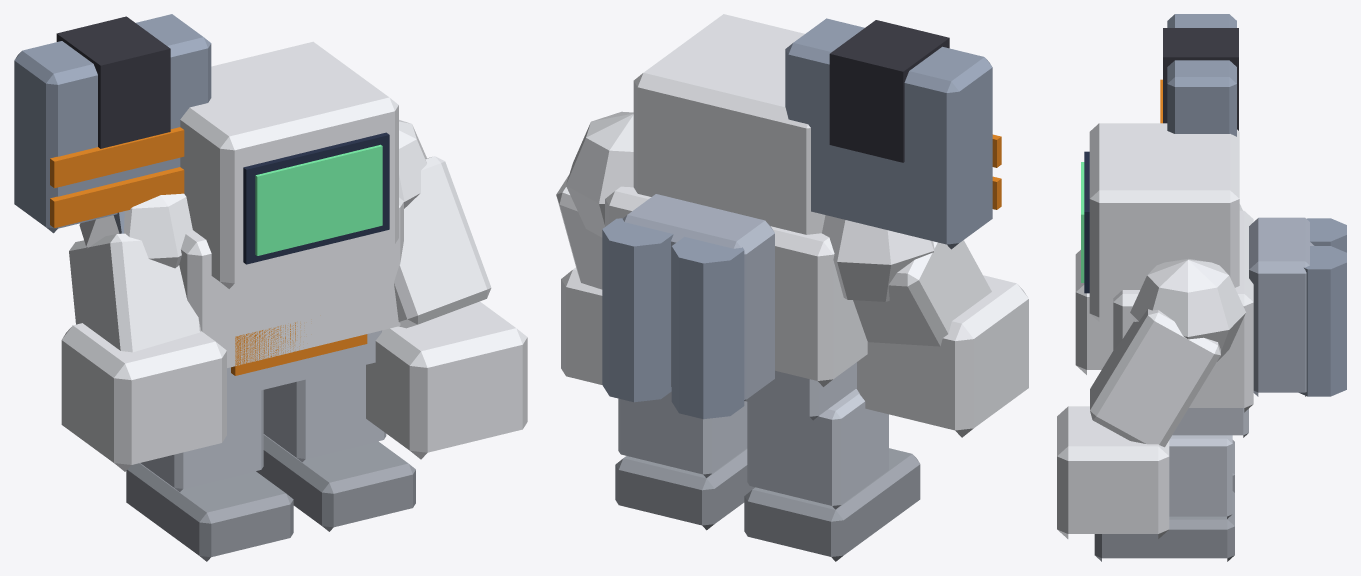
File: r9_mini_airlock_crusher.glb
The picture shows the model from 3 angles, left to right: view 1: azimuth 30°, elevation 25°; view 2: azimuth 150°, elevation 25°; view 3: azimuth 270°, elevation 25°; orthographic projection. The views are drawn at different scales.
Visible parts, largest first — view 1: r9_mini_airlock_crusher_mesh; view 2: r9_mini_airlock_crusher_mesh; view 3: r9_mini_airlock_crusher_mesh.
Boxes of the visible parts, x1,y1,x2,y2 form: r9_mini_airlock_crusher_mesh: [14, 14, 527, 561]; r9_mini_airlock_crusher_mesh: [556, 14, 1028, 561]; r9_mini_airlock_crusher_mesh: [1057, 14, 1346, 561].
Size of the model in its own units: 3.78 by 4.2 by 2.63.
Materials: 1 (1 with a texture image).
